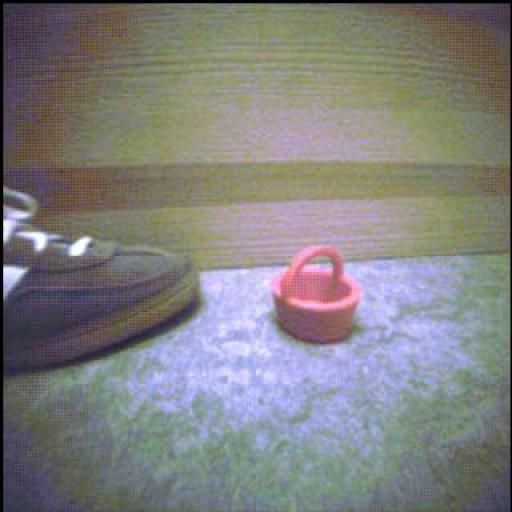Bucket: (273, 246, 363, 343)
